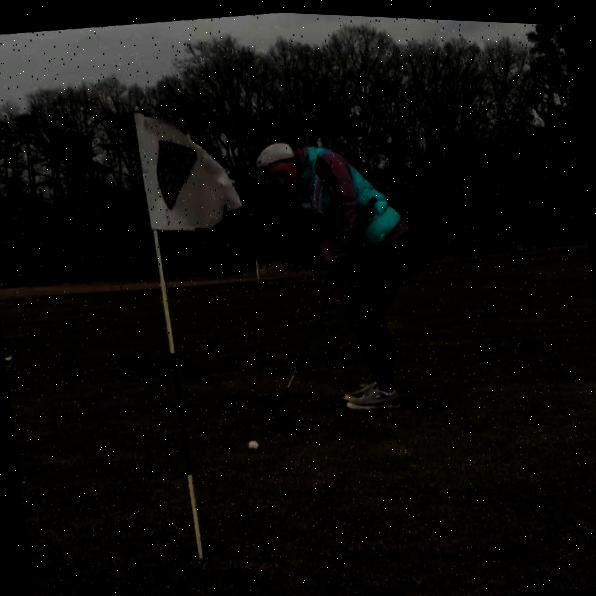ClubHead: (257, 390, 283, 407)
GolfBall: (247, 437, 259, 450)
